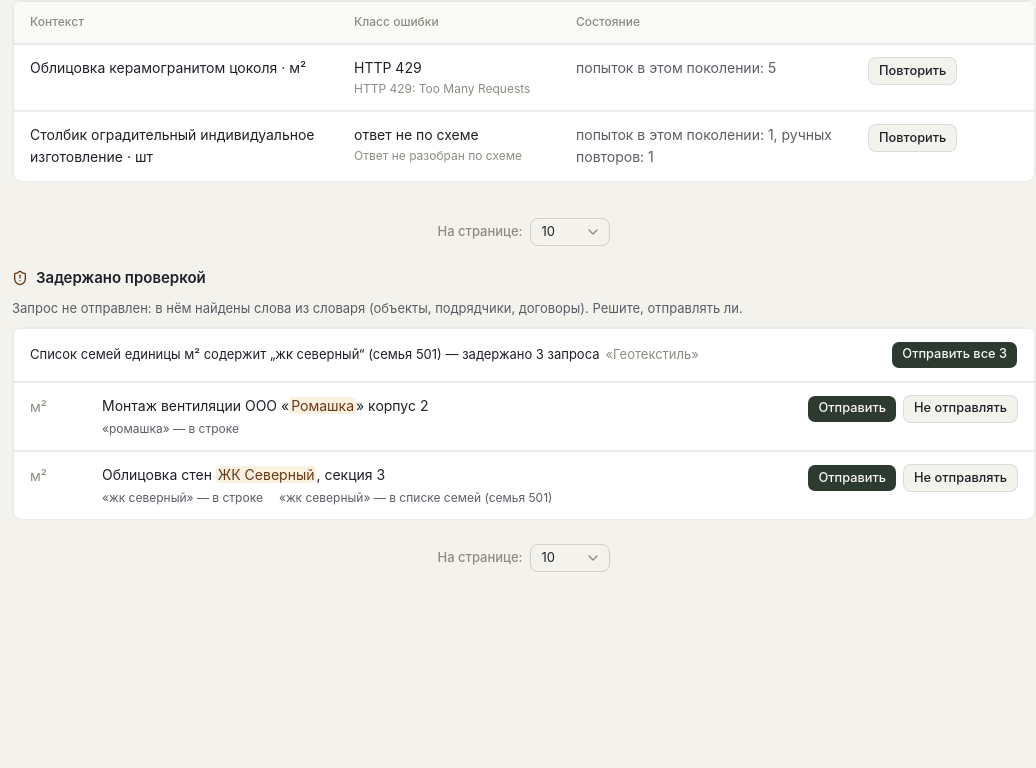
Test case: ErrorsQueue — «Задержано проверкой» › 409 job_changed на «Отправить»: «задание изменилось, обновите экран»
The width and height of the screenshot is (1036, 768).
Click the button "Отправить" in the row of "» корпус 2": coordinates (852, 409) [807,395,897,423]
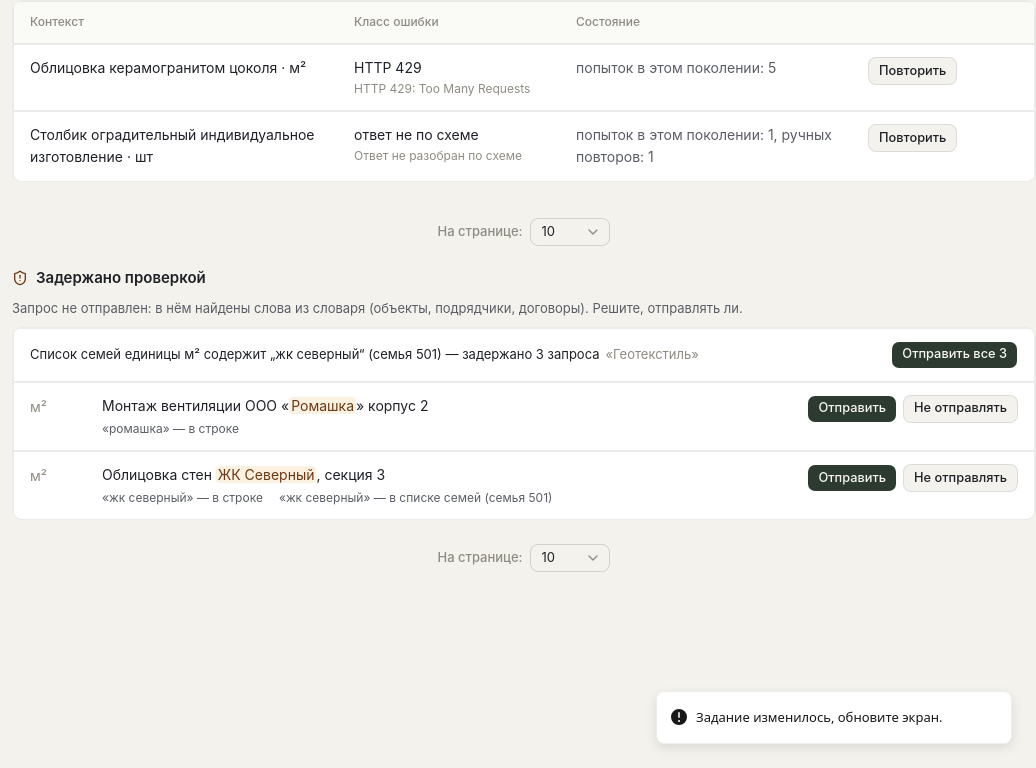
Result: the text "Задание изменилось, обновите экран." is shown at [696,708,942,727]
